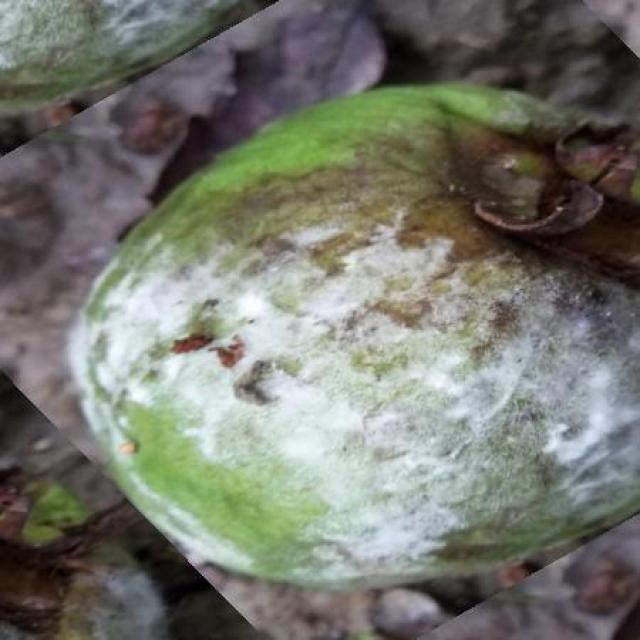Phytopthora: (75, 86, 640, 587)
